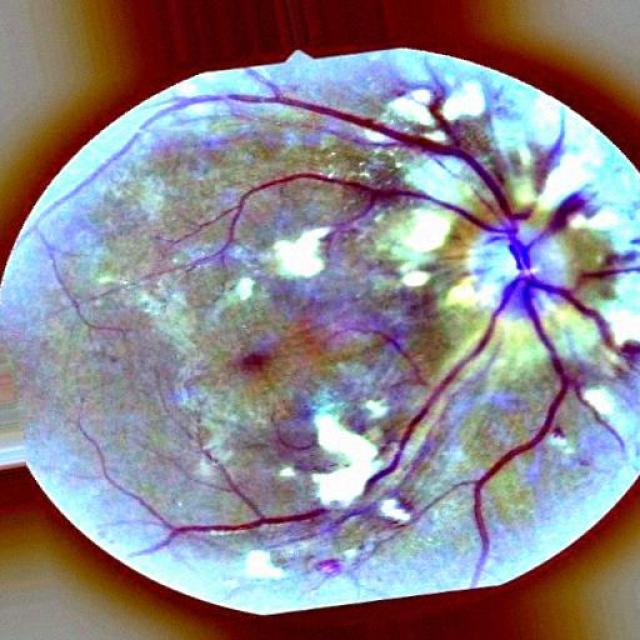Macula: (221, 332, 287, 400)
Nerves: (143, 325, 498, 554), (215, 88, 510, 200), (469, 331, 577, 580), (255, 158, 488, 229)
Optic Disk: (460, 206, 574, 330)
